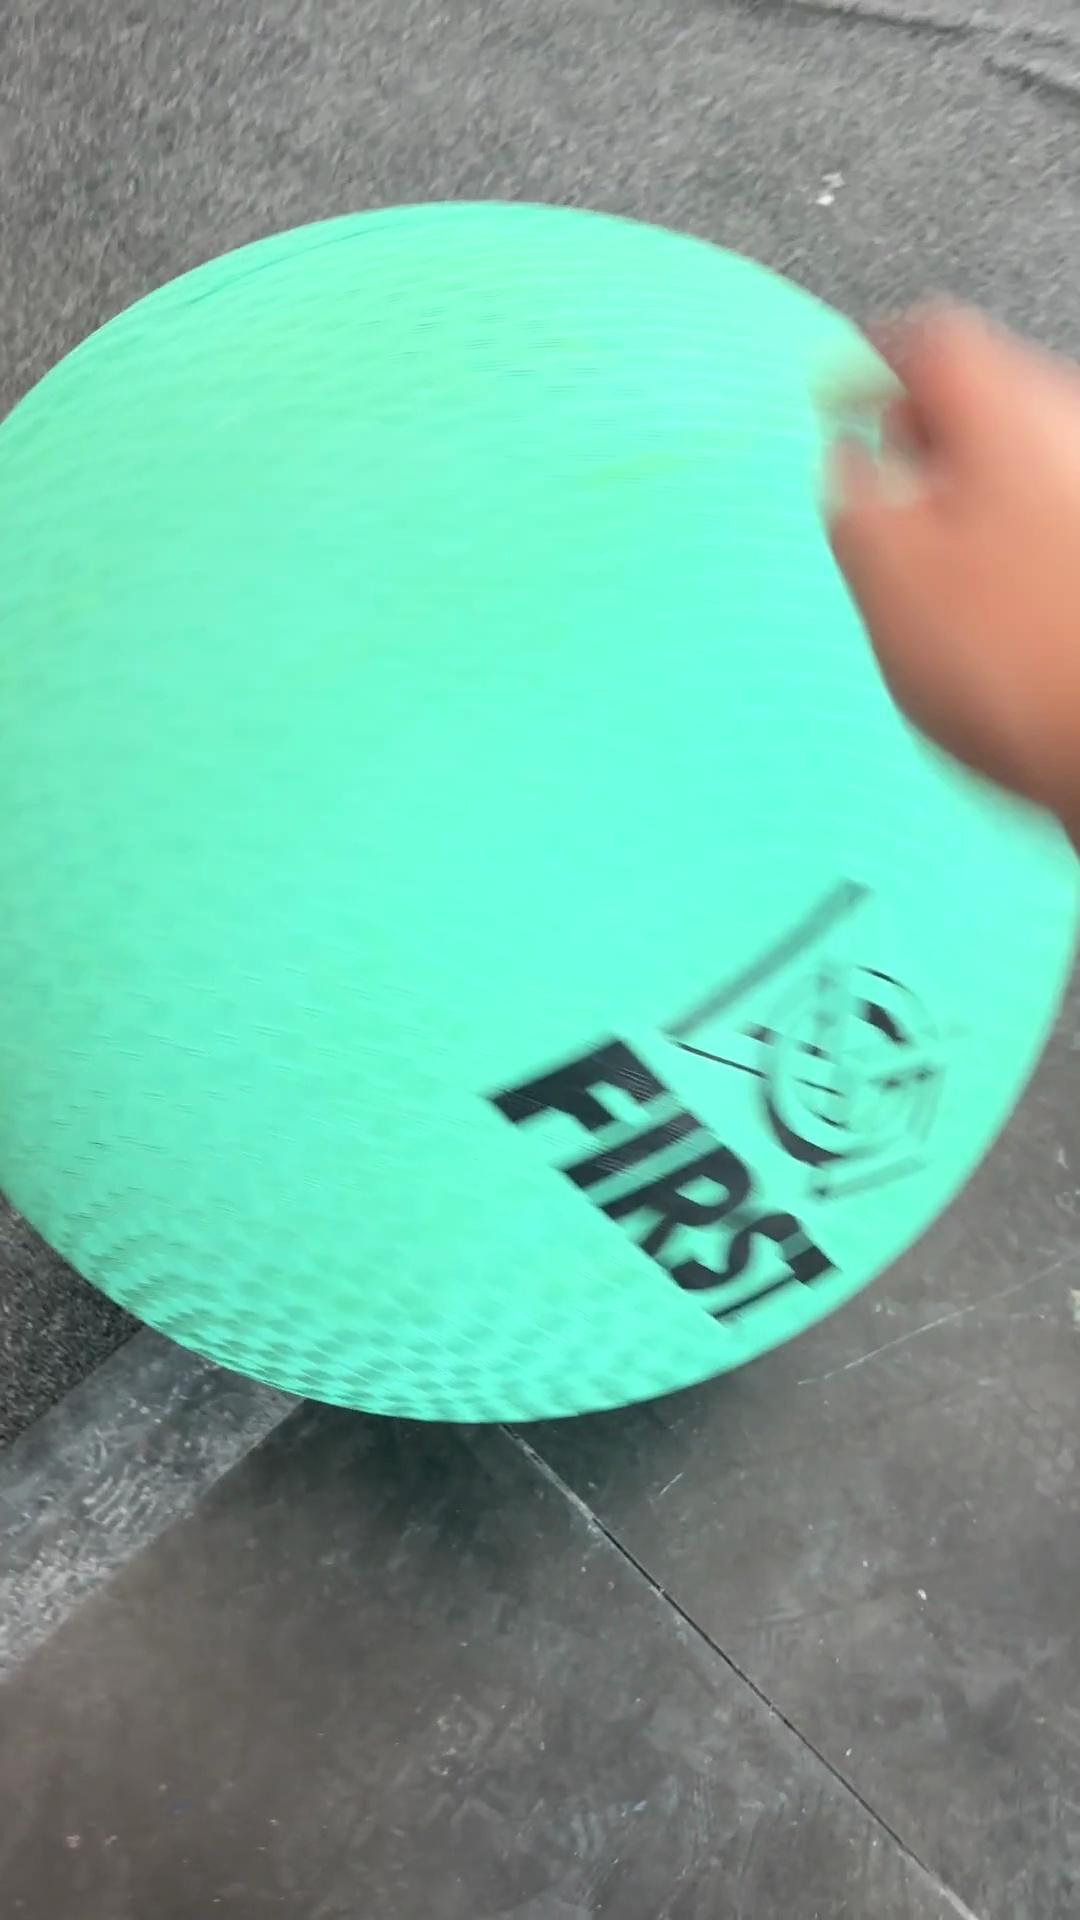ALGAE: (3, 196, 1076, 1427)
